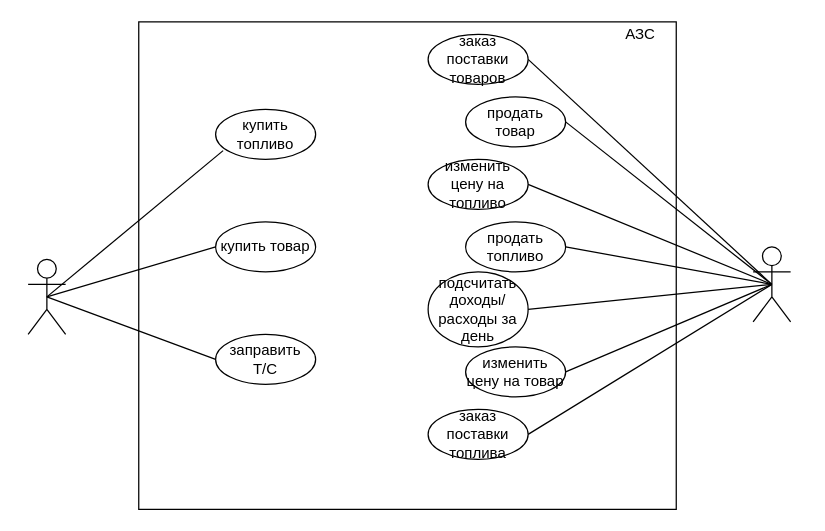
The diagram is 825 pixels wide and 531 high, and some of its shapes have lost their labels. Each missing label, with the centre of its shape:
"Клиент" goes at point 46,296.
"Работник" goes at point 771,284.
